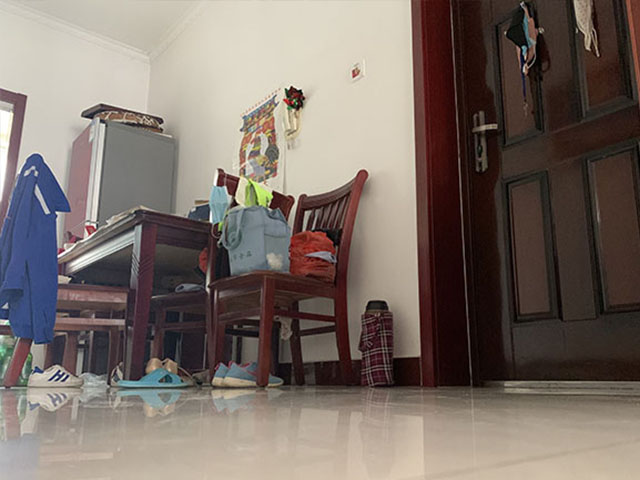slippers: (118, 366, 192, 389)
stool: (206, 167, 371, 385), (1, 151, 132, 394)
table: (56, 208, 222, 383)
